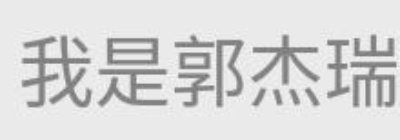TextView: (1, 1, 399, 139)
